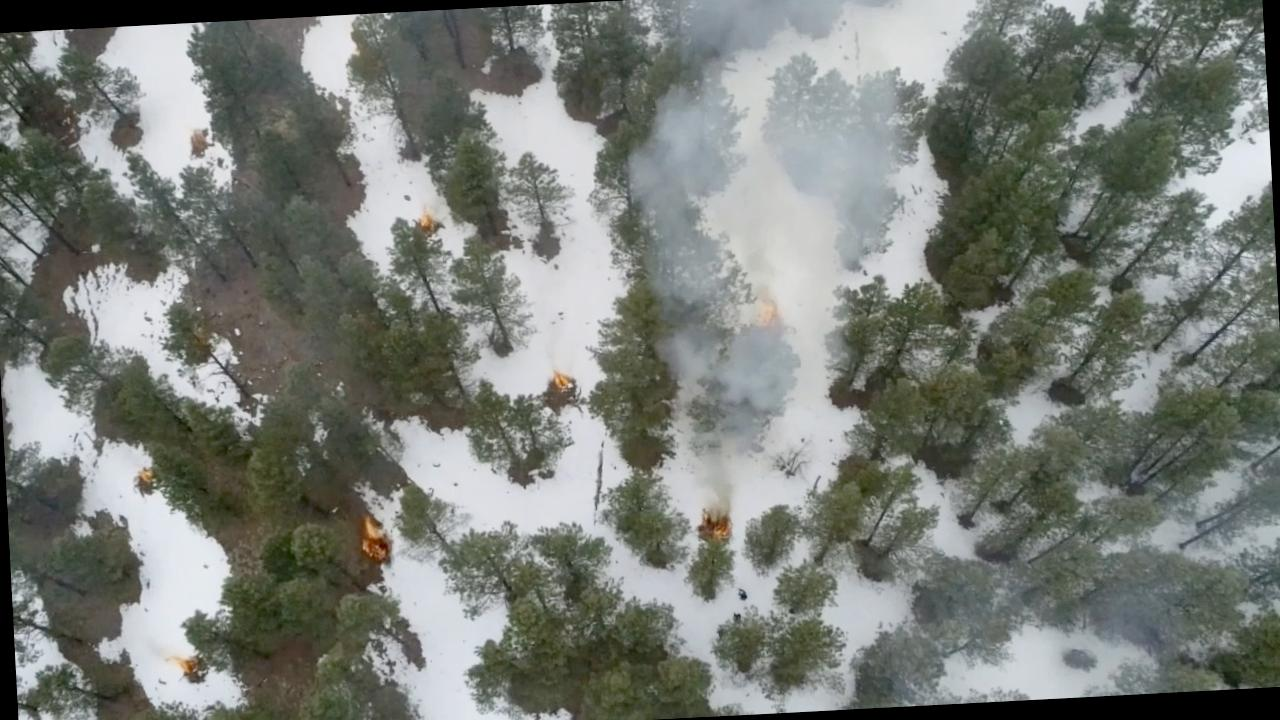fire: (353, 513, 396, 569), (748, 278, 789, 335), (694, 494, 740, 544), (540, 362, 573, 398), (410, 210, 440, 236)
smoke: (614, 0, 969, 234), (641, 226, 854, 417)
